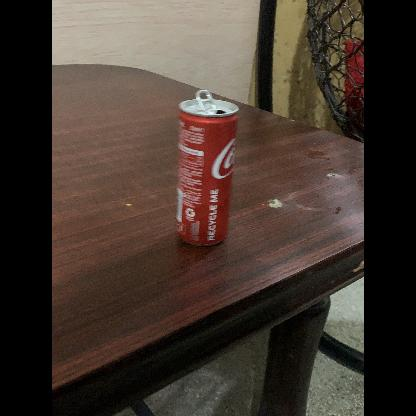Lid_Open: (195, 88, 228, 121)
Tin_Can: (173, 86, 241, 254)
